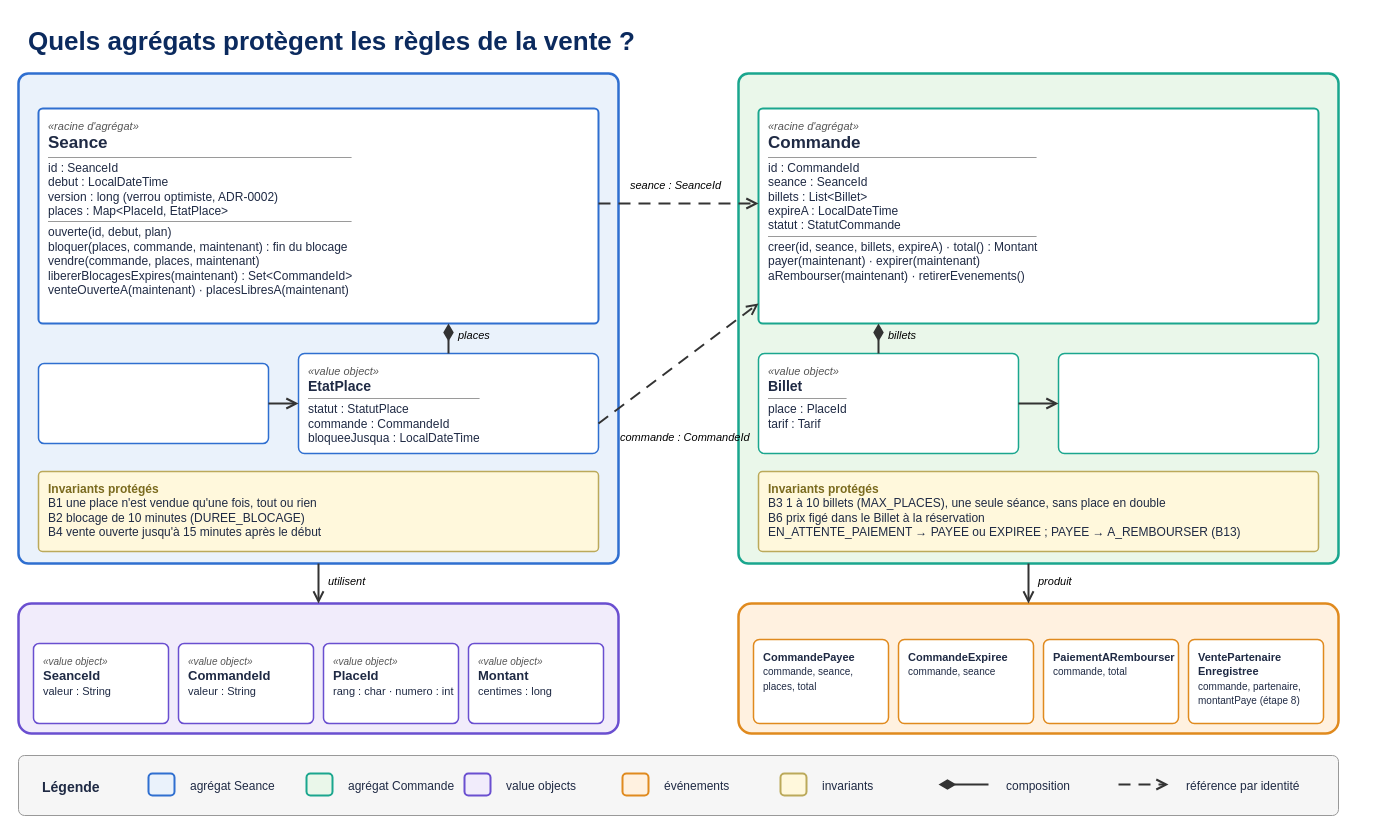
Image size: 1394x833. Some labels were removed from this diagram. The shapes that lost their labels are listed below. From the top down, each one's box as (x1, y1, x2, y2) in pixels, then its label:
(17, 72, 619, 564): Agrégat Seance — le plan de salle d'une séance
(737, 72, 1339, 564): Agrégat Commande — l'achat d'un client
(37, 362, 269, 444): «enum» StatutPlace LIBRE · BLOQUEE · VENDUE
(1057, 352, 1319, 454): «value object» Tarif categorie : Categorie prix : Montant
(17, 602, 619, 734): Value objects partagés (package commun)
(737, 602, 1339, 734): Événements du domaine, publiés après l'enregistrement
